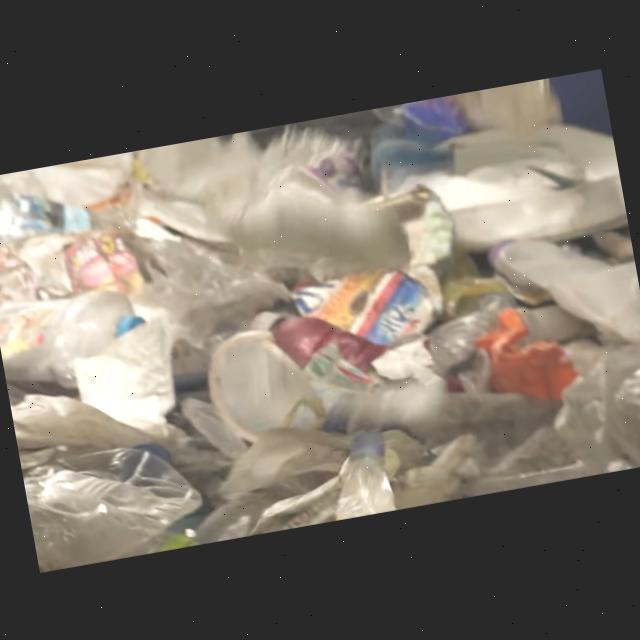trash: (0, 279, 154, 389), (0, 160, 93, 253), (321, 424, 399, 520)
